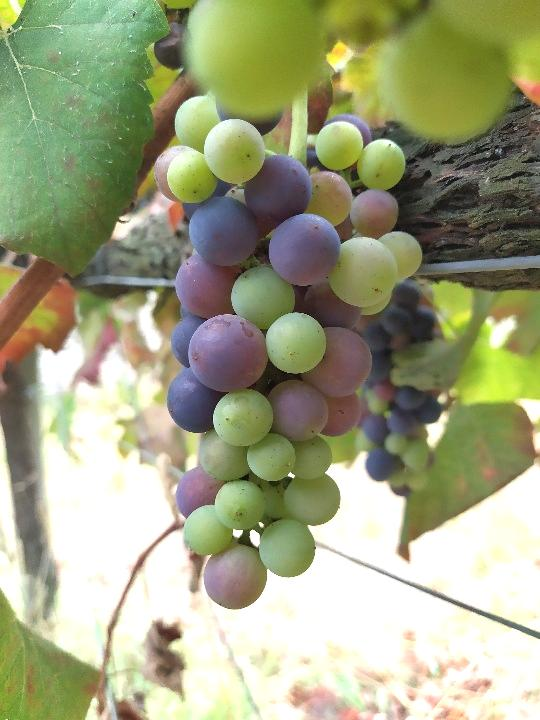grape: (151, 80, 425, 612)
